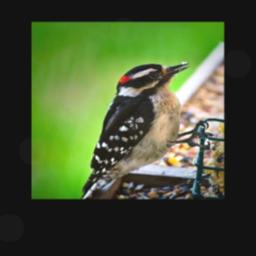Woodpecker: (80, 61, 212, 198)
